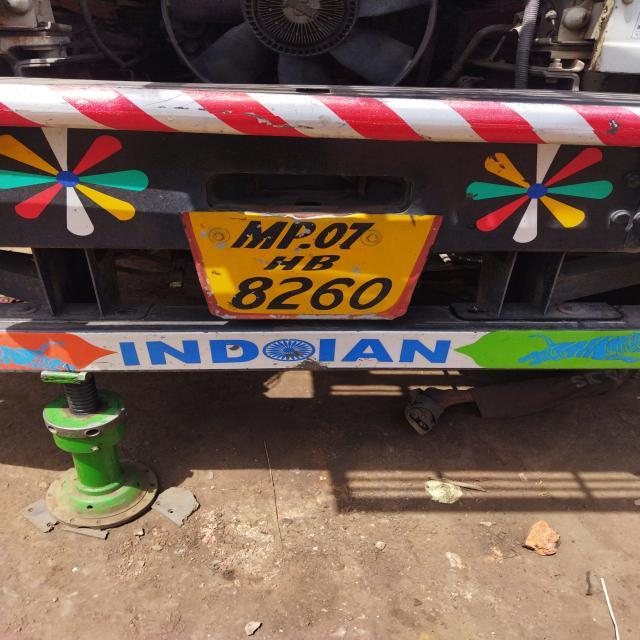plate: (179, 208, 443, 321)
